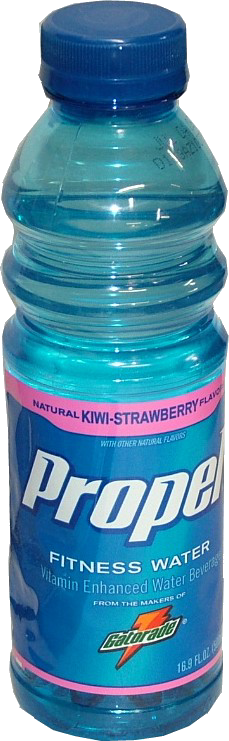grozi_56: (0, 0, 229, 740)
